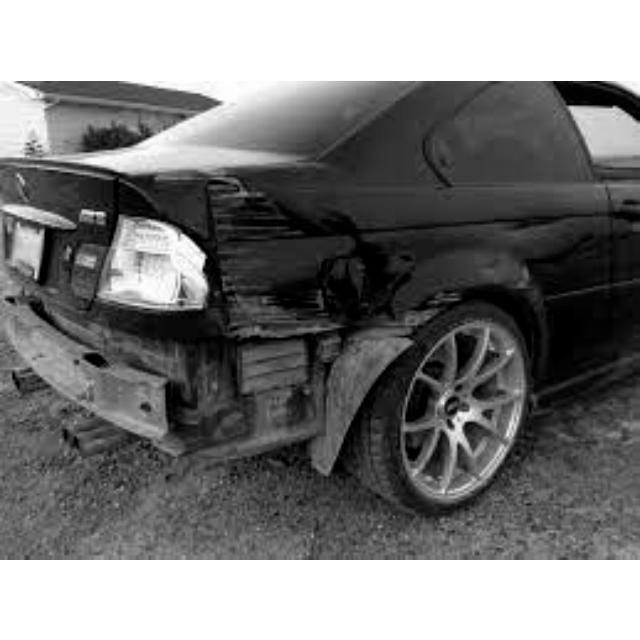quaterpanel-dent: (215, 169, 457, 443)
rear-bumper-dent: (0, 298, 252, 468)
